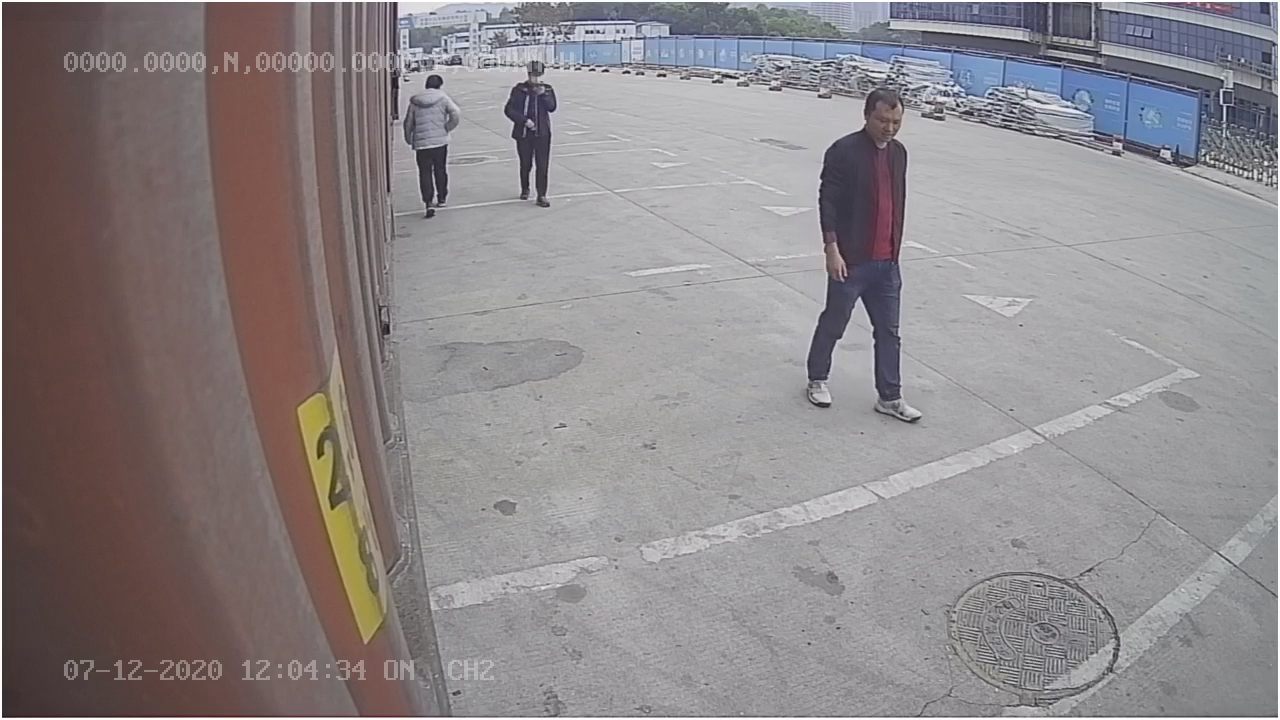person: (803, 83, 926, 425)
